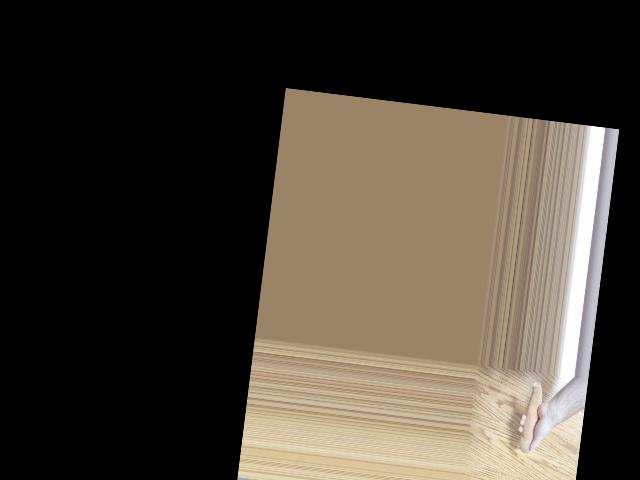sweet_potato: (517, 378, 550, 455)
